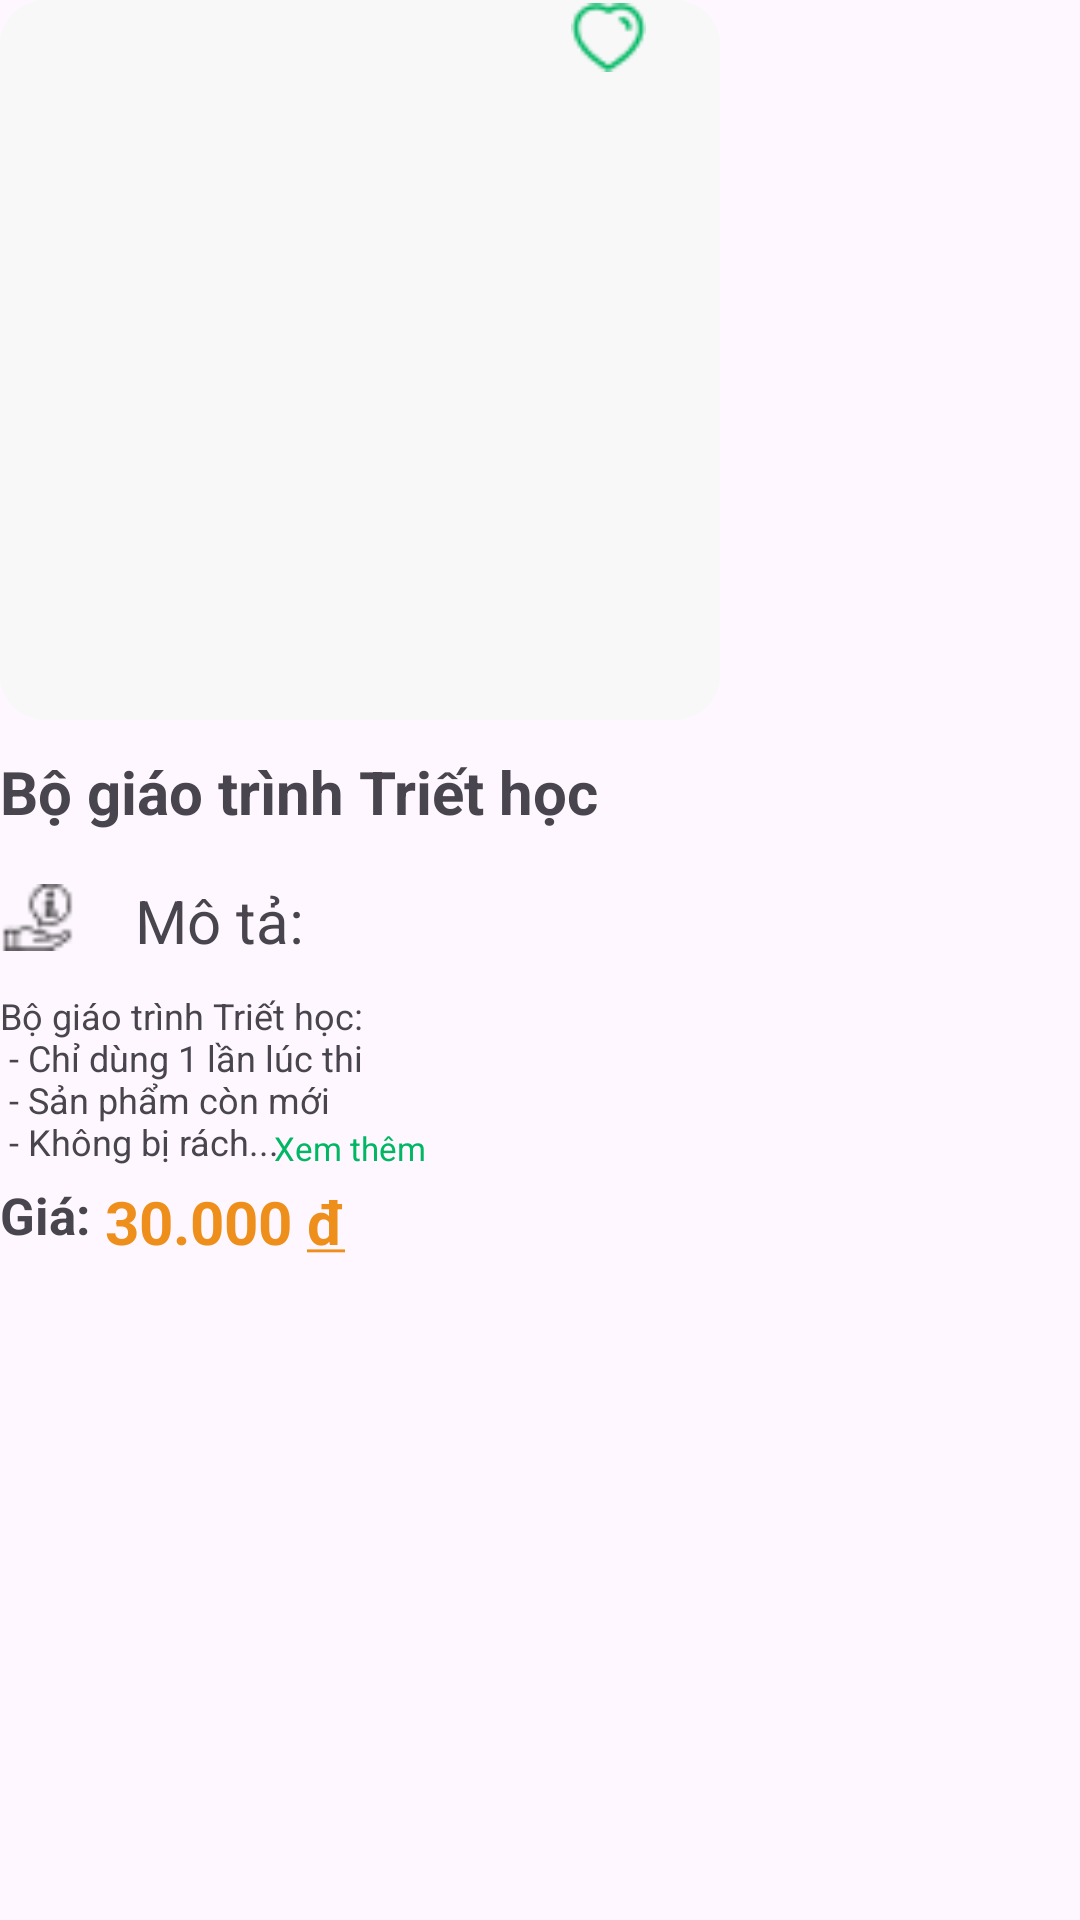

Point at icon controls on the screen. Image size 1080px x 1920px, points as (x,y).
description: (37,917)
favorite: (608,37)
